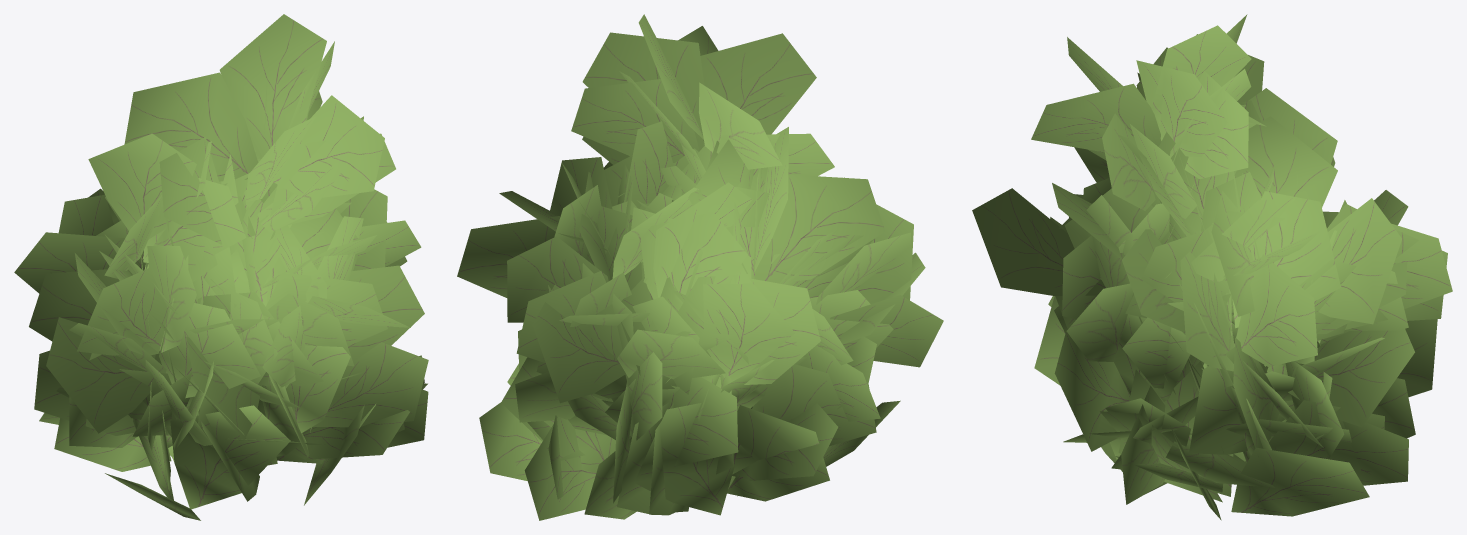
File: tree_Broadleaf_Bush_L1_LOD1.fbx
The picture shows the model from 3 angles, left to right: view 1: azimuth 30°, elevation 25°; view 2: azimuth 150°, elevation 25°; view 3: azimuth 270°, elevation 25°; orthographic projection. The views are drawn at different scales.
Parts seen in each view (by area): view 1: Broadleaf_Bush_L1_LOD1; view 2: Broadleaf_Bush_L1_LOD1; view 3: Broadleaf_Bush_L1_LOD1.
Part boxes in pixels (left/top/right/bottom): Broadleaf_Bush_L1_LOD1: left=14, top=14, right=428, bottom=520; Broadleaf_Bush_L1_LOD1: left=457, top=14, right=943, bottom=520; Broadleaf_Bush_L1_LOD1: left=972, top=14, right=1452, bottom=520.
Bounding box in the file's own units: 582 × 627 × 572.
